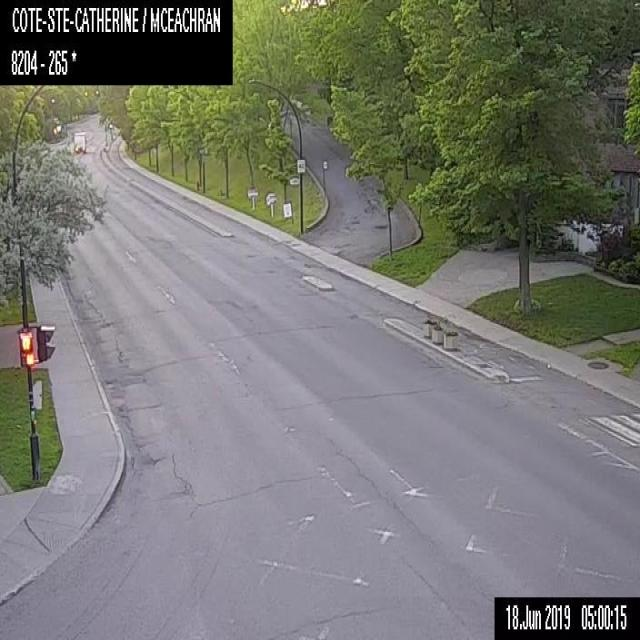vehicle: (72, 131, 86, 152)
